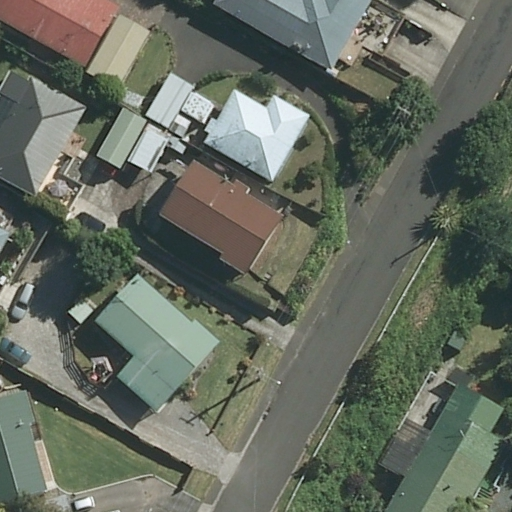DT: (241, 360, 275, 385), (391, 102, 418, 127)
